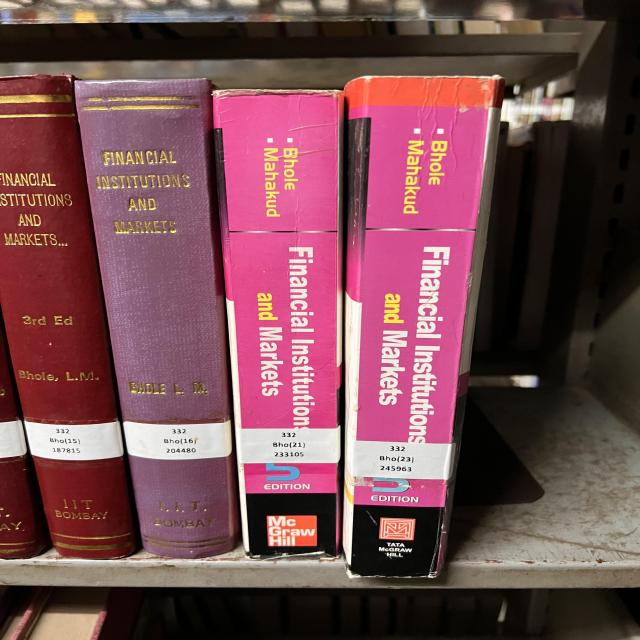Book: (75, 79, 238, 559), (347, 79, 502, 575), (0, 75, 137, 559), (213, 90, 343, 556)
Label: (347, 439, 455, 480), (123, 421, 232, 460), (25, 421, 123, 460), (235, 428, 340, 464)
